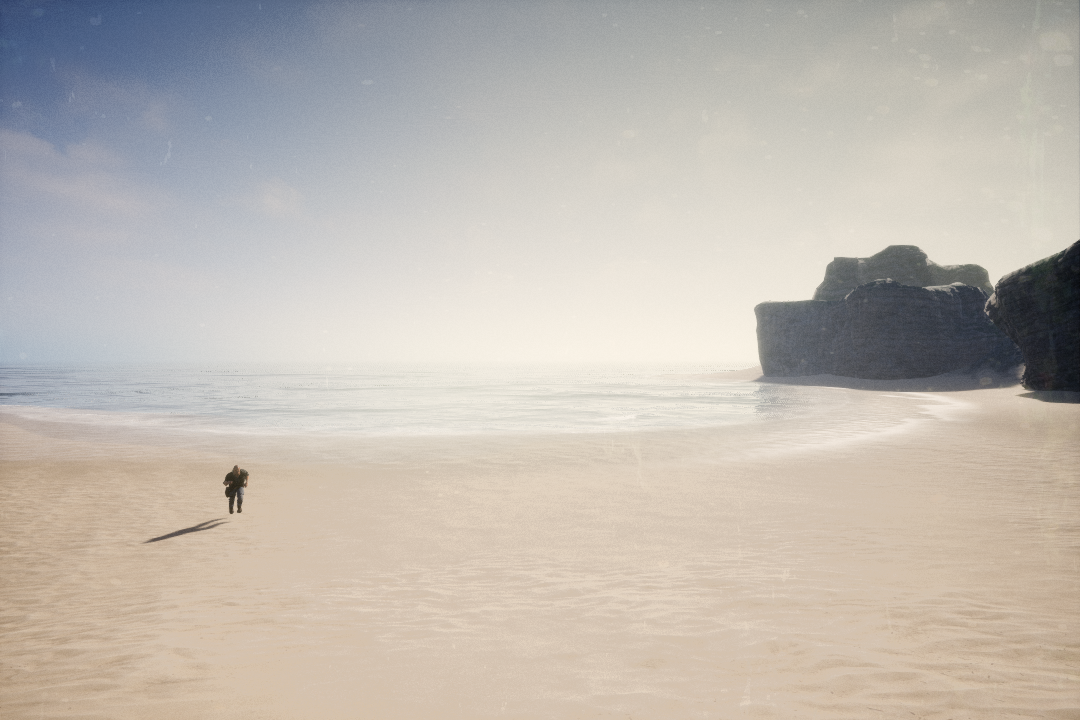person: (215, 463, 252, 515)
